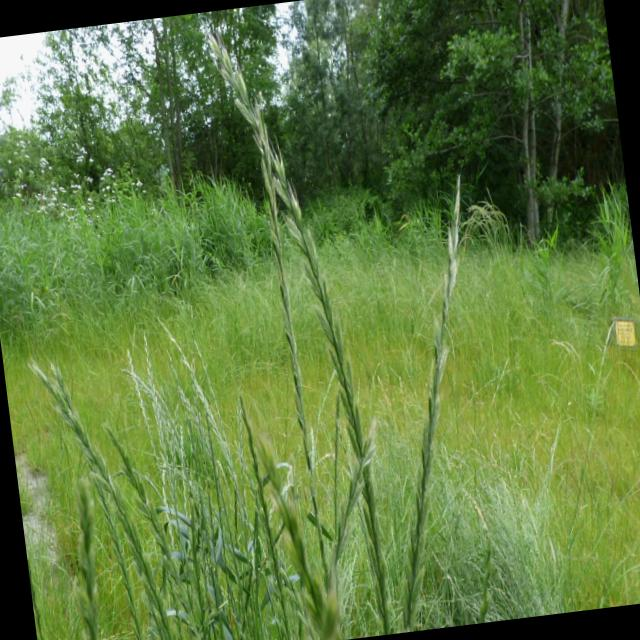Lolium: (0, 0, 530, 640), (199, 13, 395, 634), (200, 18, 350, 640), (341, 174, 521, 633), (41, 358, 167, 640)
